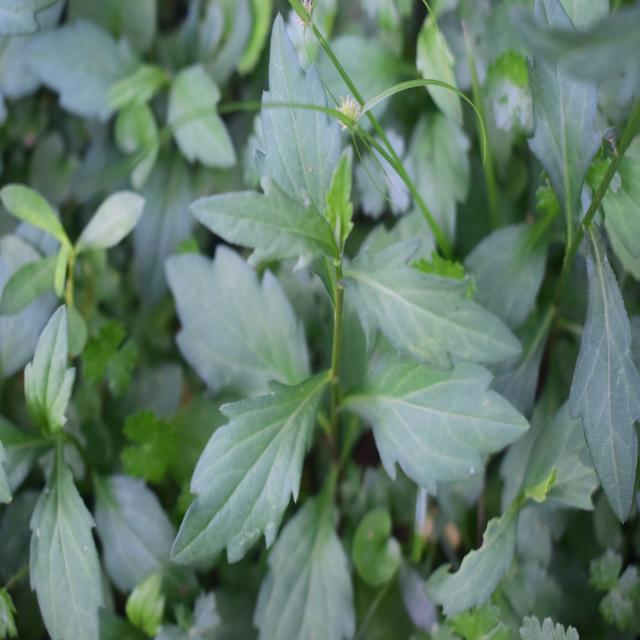Indian aster: (179, 148, 505, 538)
